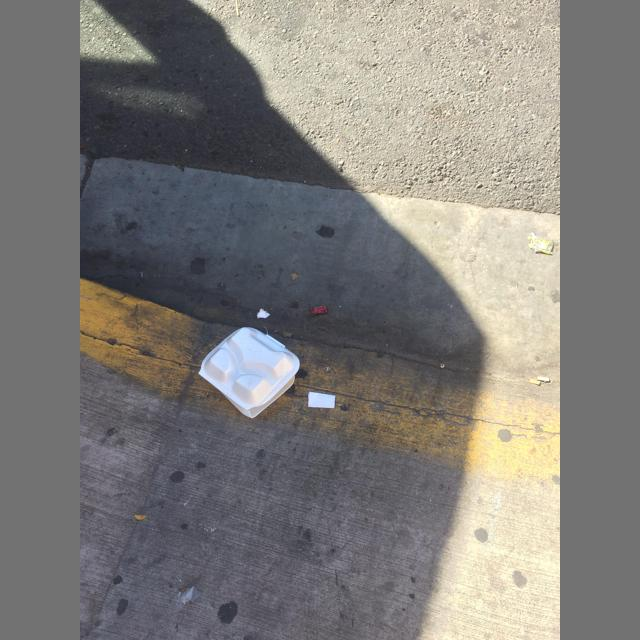litter: (198, 327, 300, 418), (166, 587, 214, 614), (308, 392, 335, 408), (310, 305, 327, 315), (257, 308, 270, 318), (536, 376, 549, 382), (529, 379, 541, 385)
